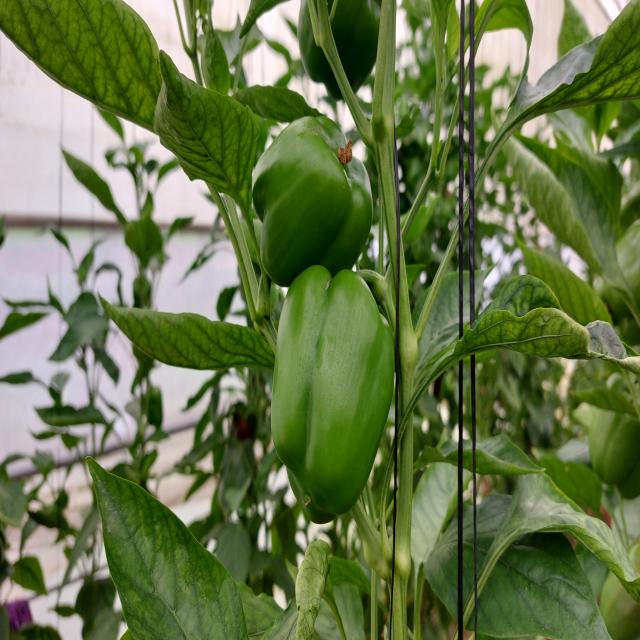Green--Not-ready-to-harvest: (266, 277, 398, 538), (252, 105, 376, 272), (298, 0, 379, 100)
